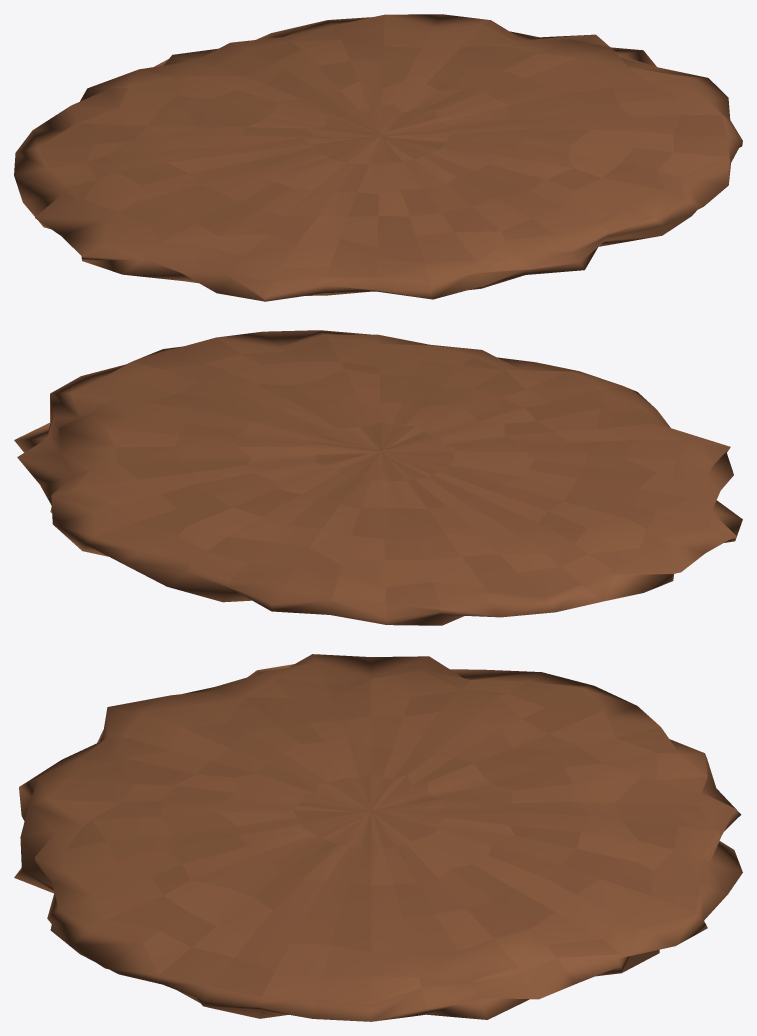
Rendered from MeatStock.glb.
3 views of the same model, one above another, from view 1: azimuth 30°, elevation 25°; view 2: azimuth 150°, elevation 25°; view 3: azimuth 270°, elevation 25° (orthographic). The views are drawn at different scales.
Visible parts, largest first — view 1: MeatStock; view 2: MeatStock; view 3: MeatStock.
Part boxes in pixels (left/top/right/bottom): MeatStock: left=14, top=14, right=742, bottom=301; MeatStock: left=14, top=330, right=742, bottom=625; MeatStock: left=14, top=654, right=742, bottom=1021.
Size of what is drawn, in the model's own units: 0.0735 by 0.00575 by 0.0615.
